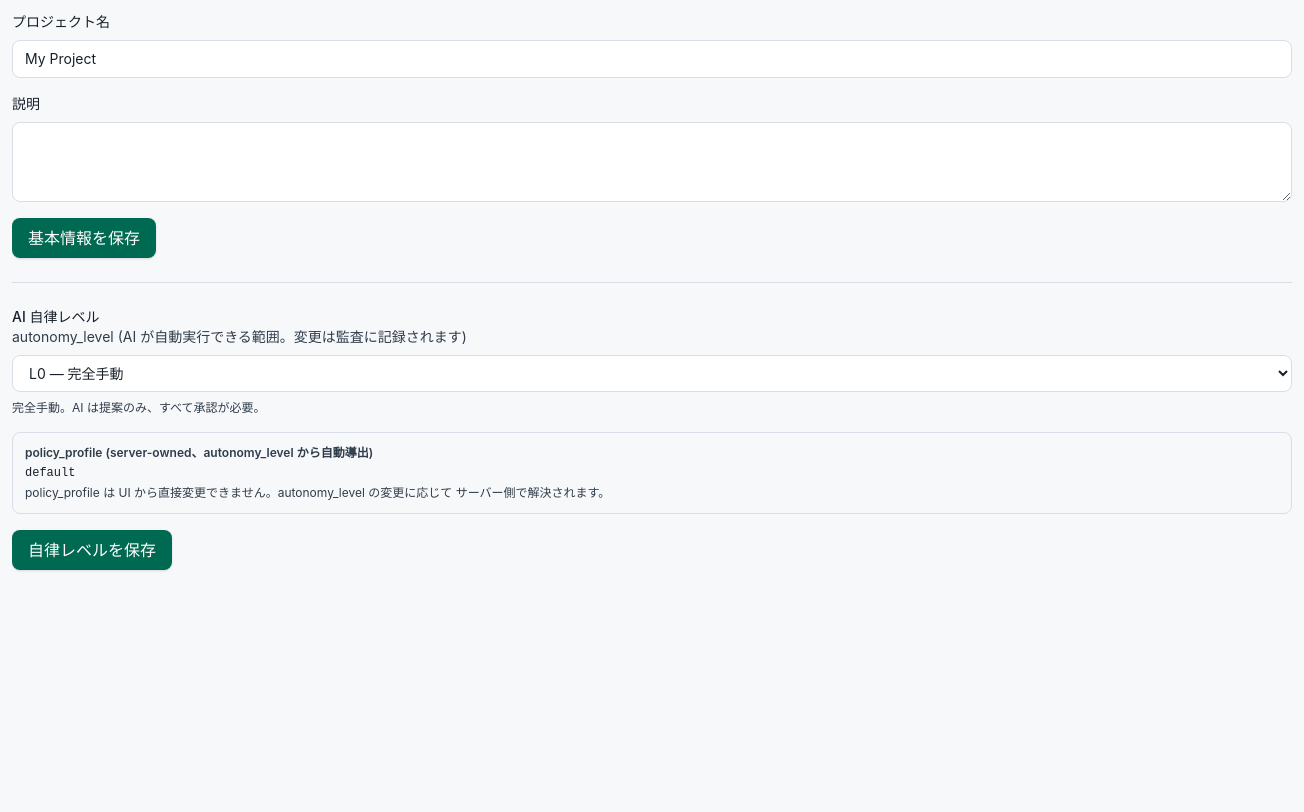
Test case: ProjectSettingsForm autonomy lock-after-save (Codex adversarial R9 HIGH) › CAS expected は常に prop を送り、保存成功後は form を lock して chained edit を禁止する
Expected: the form named "expected_autonomy_level" holds "L0", [12, 282, 1292, 570]
Note: L0 → L2 へ変更して保存成功。
Step 1. Select "L2 — 中リスク自動化" in the dropdown labelled "autonomy_level" → [652, 374], box [12, 355, 1292, 392]
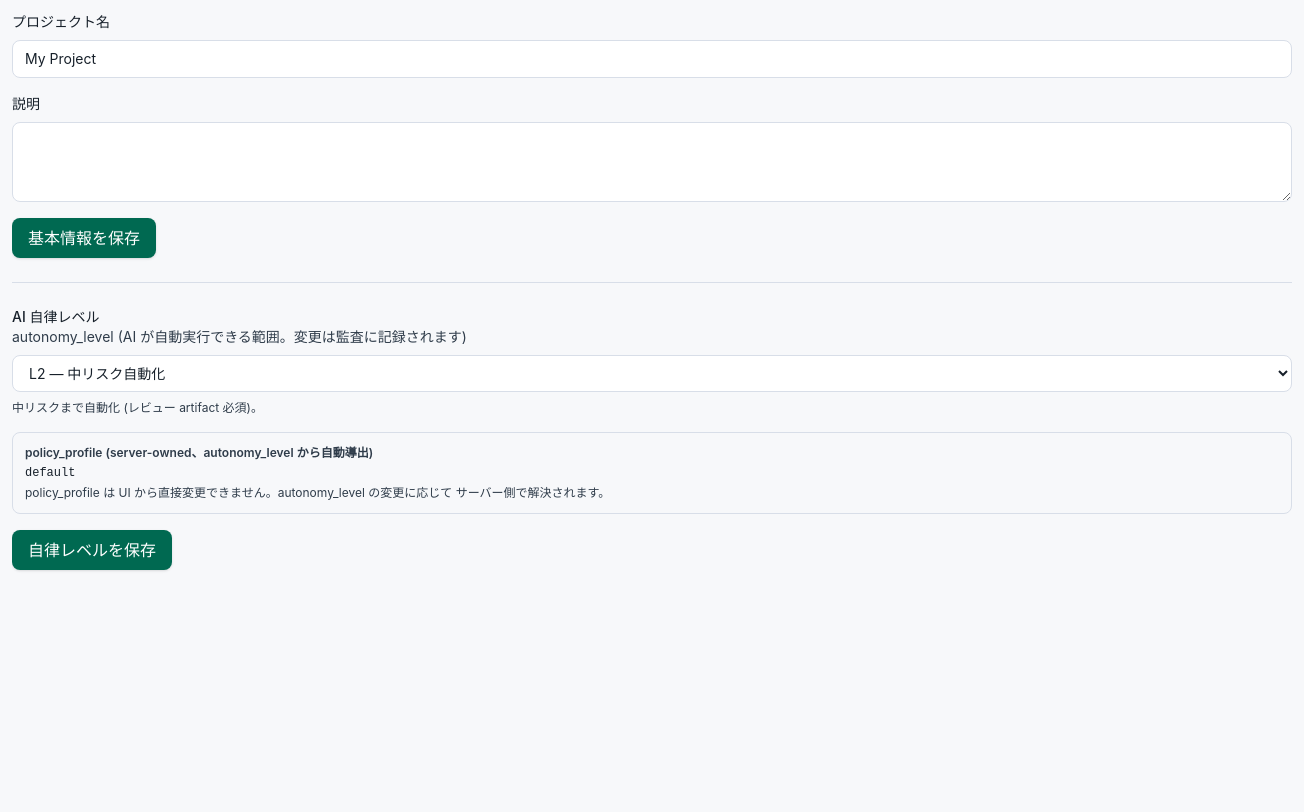
Step 2. Click the button "自律レベルを保存" → [92, 550], box [12, 530, 172, 570]
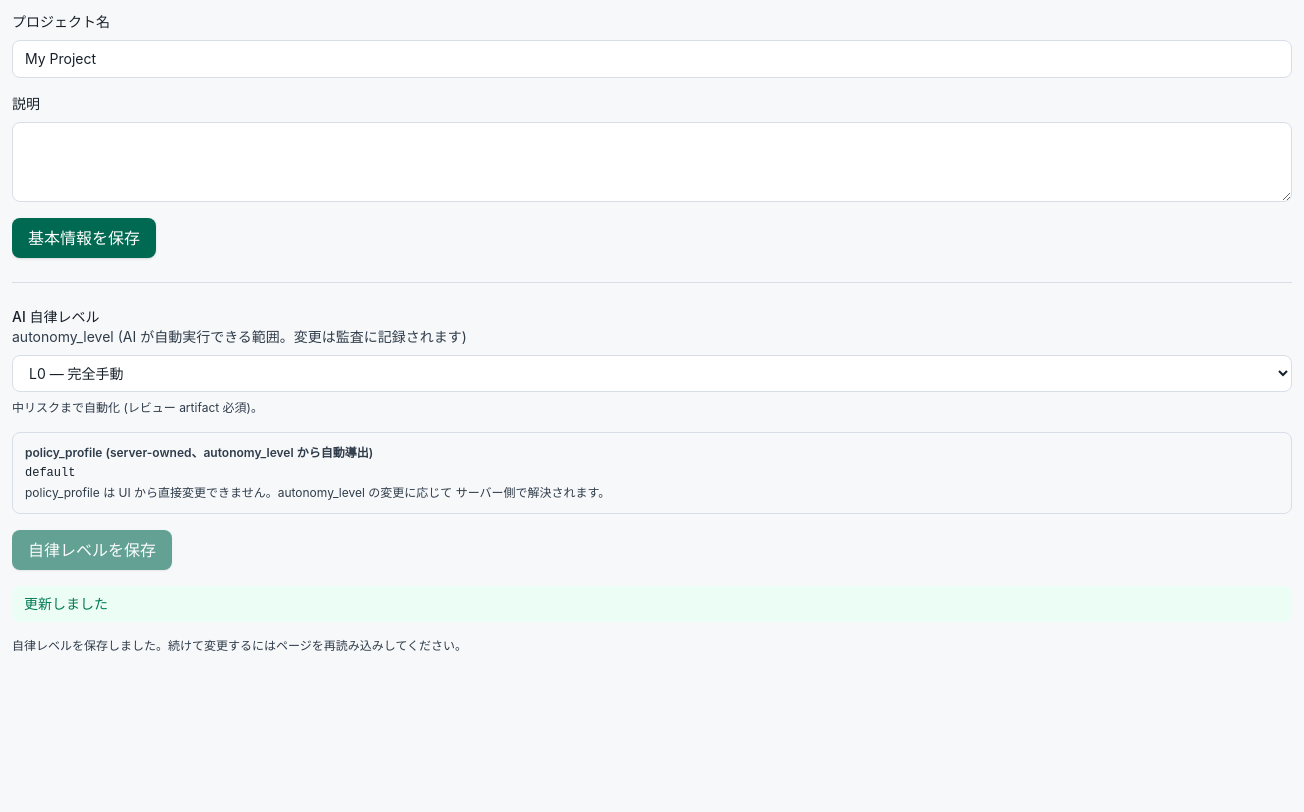
Expected: the dropdown labelled "autonomy_level" is disabled, [12, 355, 1292, 392]
Expected: the text "自律レベルを保存しました。続けて変更するにはページを再読み込みしてください。" is shown, [12, 638, 467, 653]
